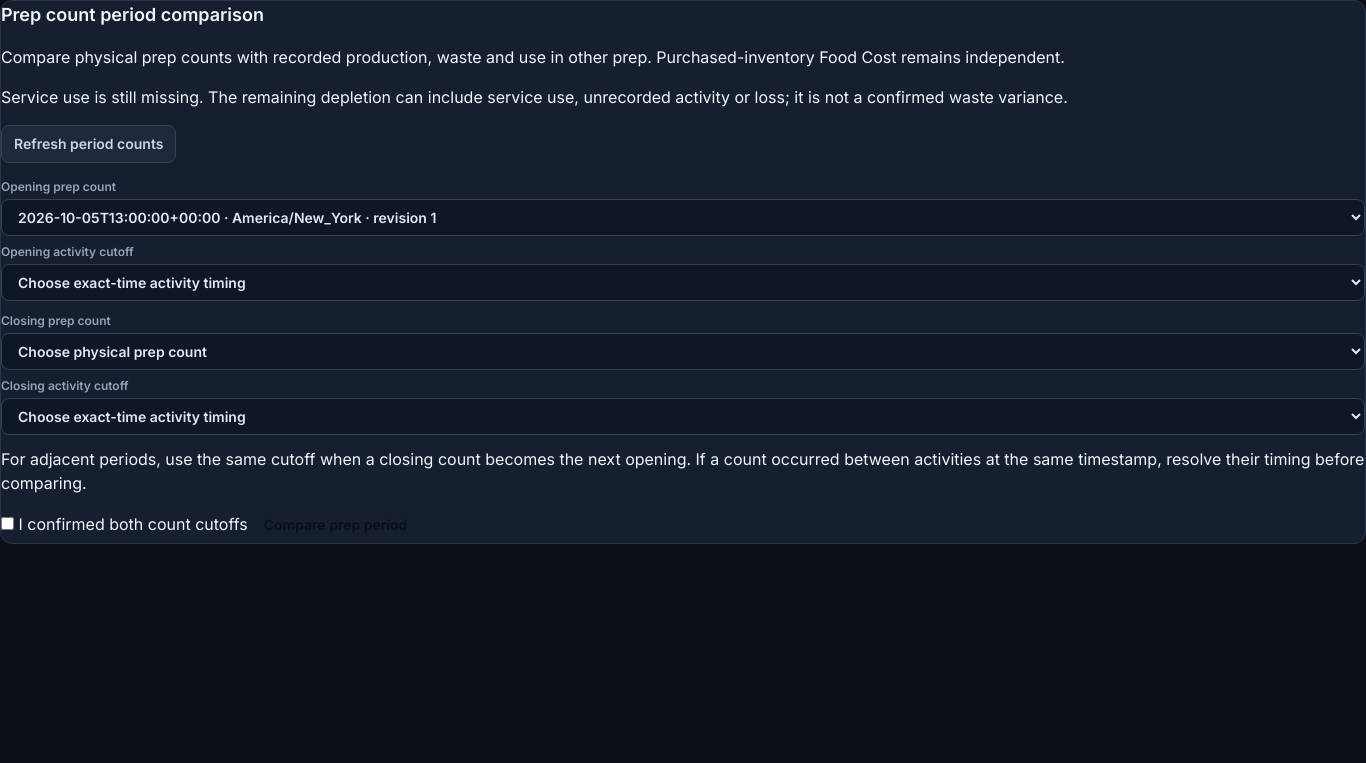
it: reports preserve precise decimal strings and distinguish missing service use from waste
Select "2026-10-05T13:00:00+00:00 · America/New_York · revision 1" in the dropdown named "Opening prep count" at [683, 218], box [1, 199, 1365, 236]
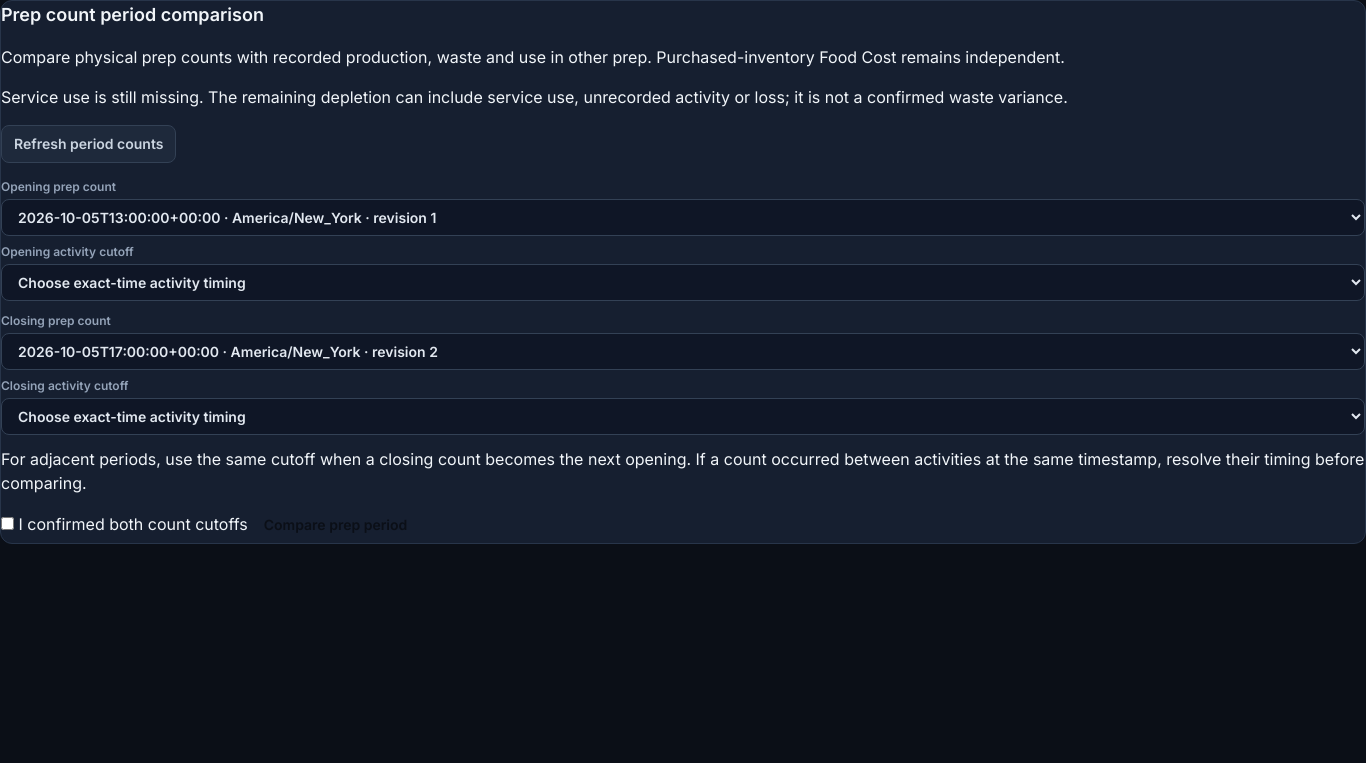
Select "2026-10-05T17:00:00+00:00 · America/New_York · revision 2" in the dropdown labelled "Closing prep count" at [683, 352], box [1, 333, 1365, 370]
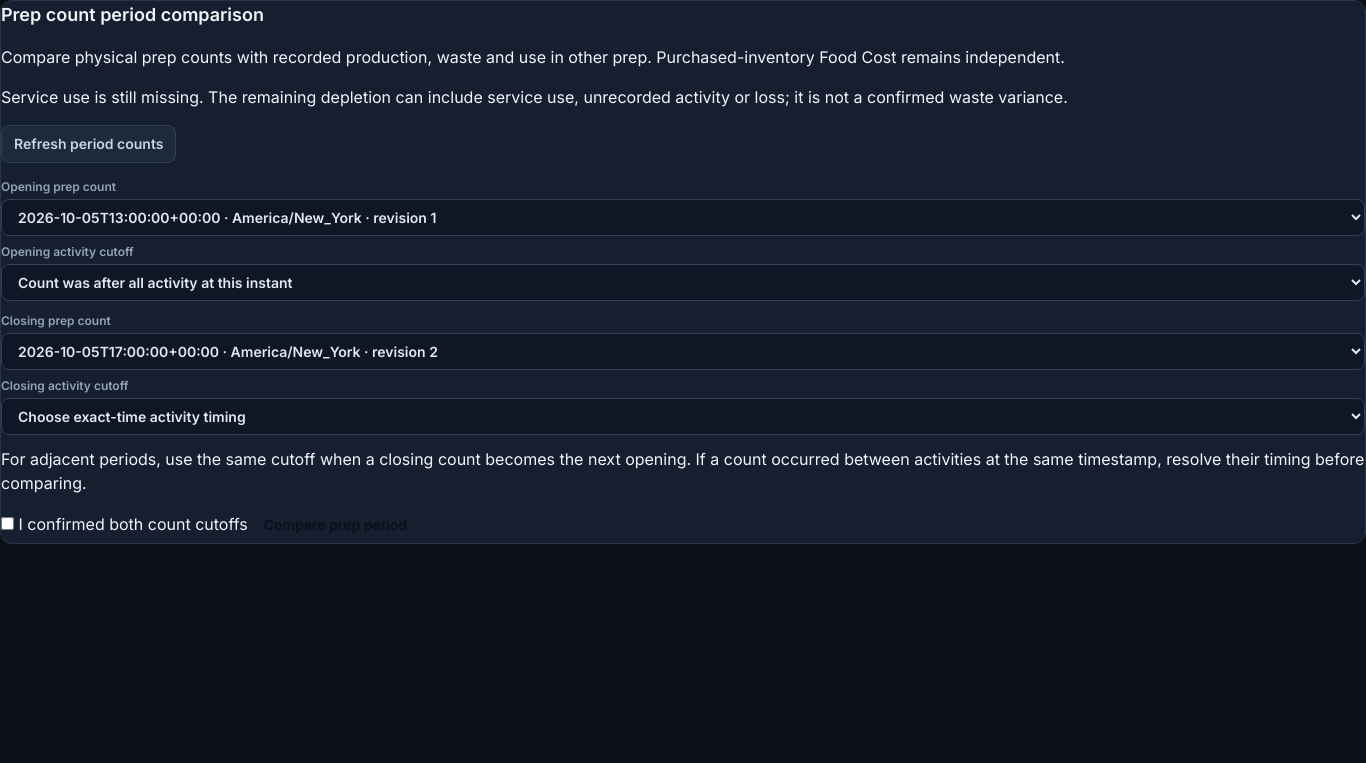
Select "Count was after all activity at this instant" in the dropdown named "Opening activity cutoff" at [683, 282], box [1, 264, 1365, 301]
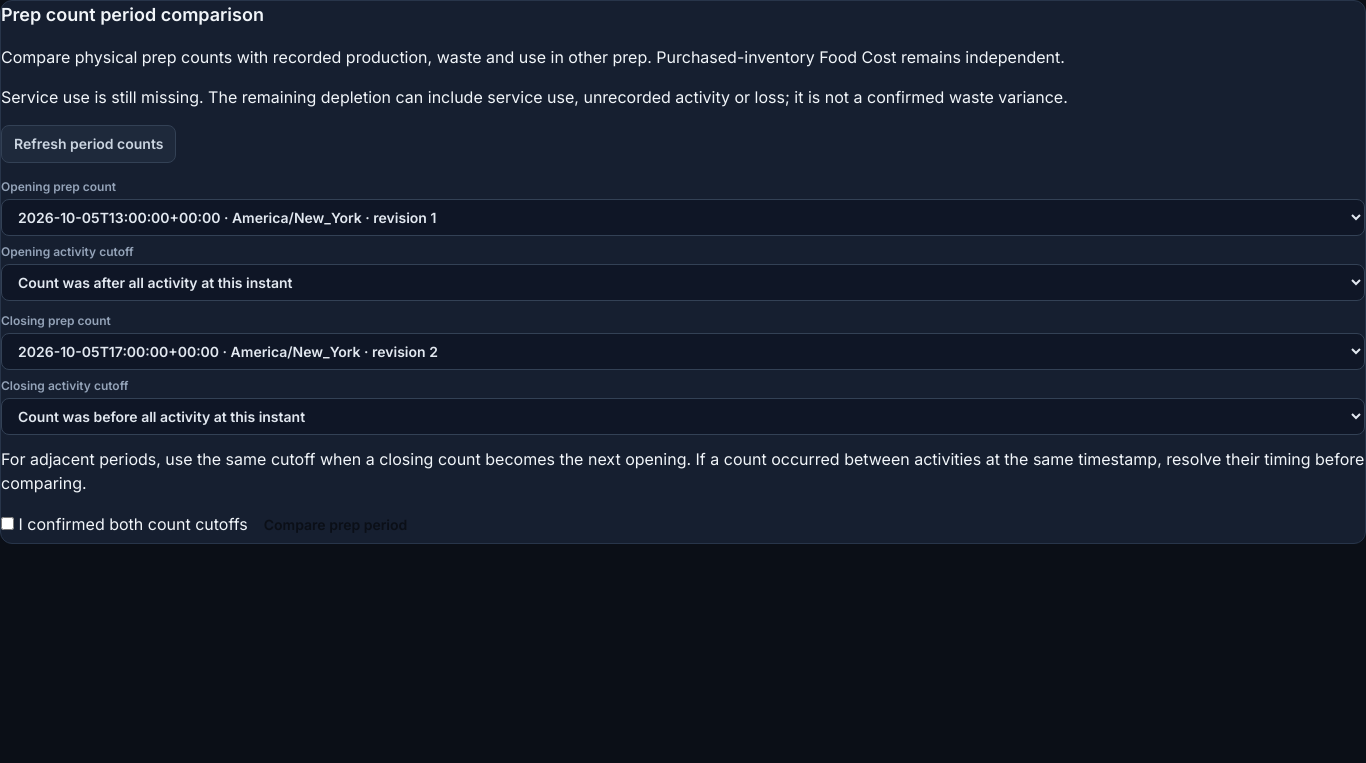
Select "Count was before all activity at this instant" in the dropdown labelled "Closing activity cutoff" at [683, 416], box [1, 398, 1365, 435]
Click the checkbox named "Confirm prep period cutoffs" at [8, 524], box [1, 517, 14, 530]
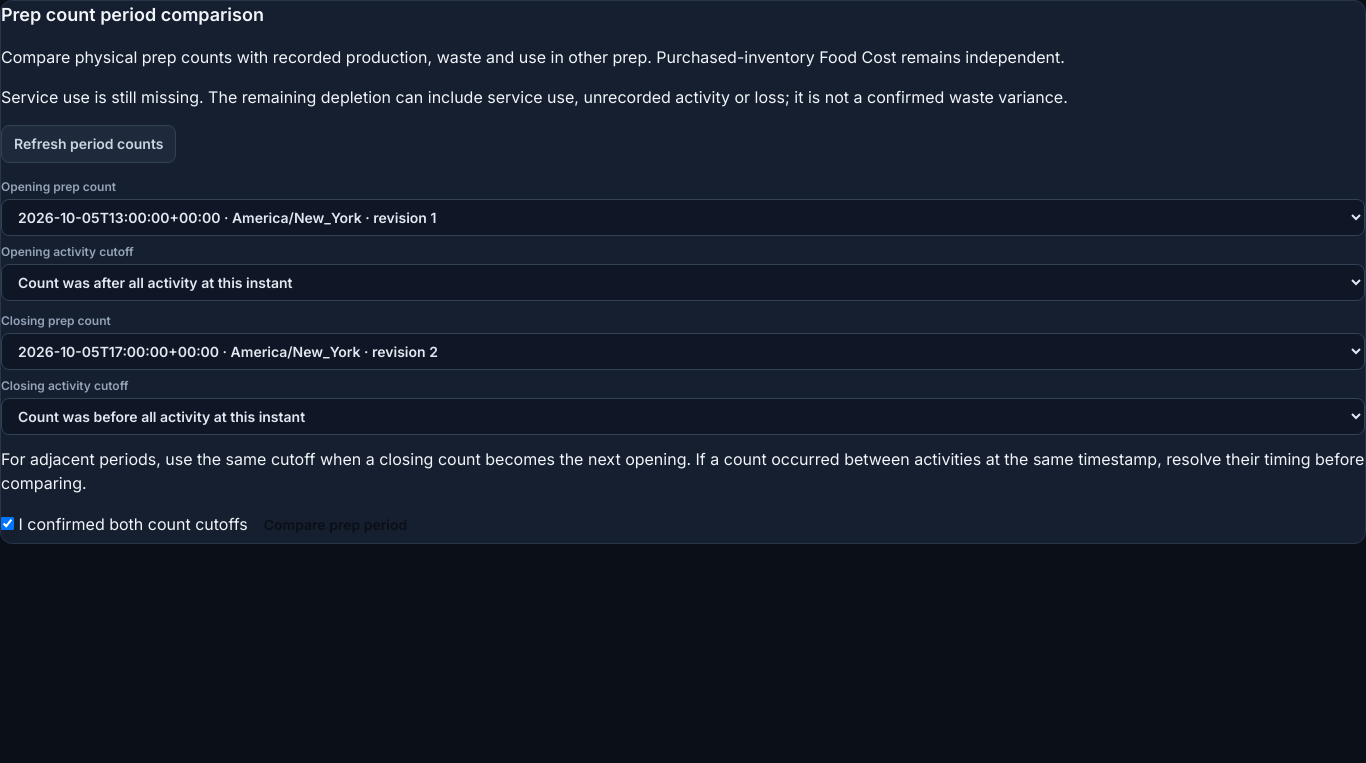
Click the button "Compare prep period" at [336, 525], box [248, 507, 423, 543]
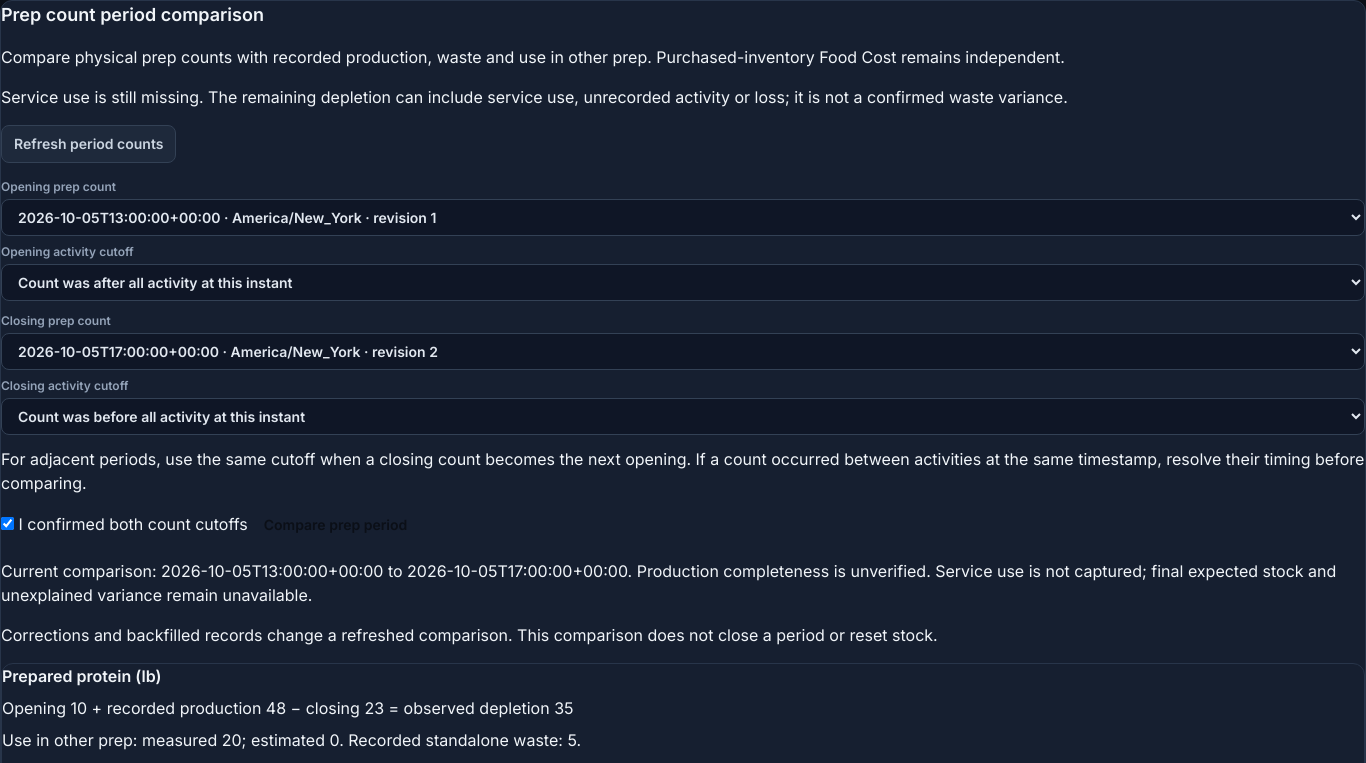
Expected: the text "final expected stock and unexplained variance remain unavailable" is shown, [1, 561, 1336, 605]
